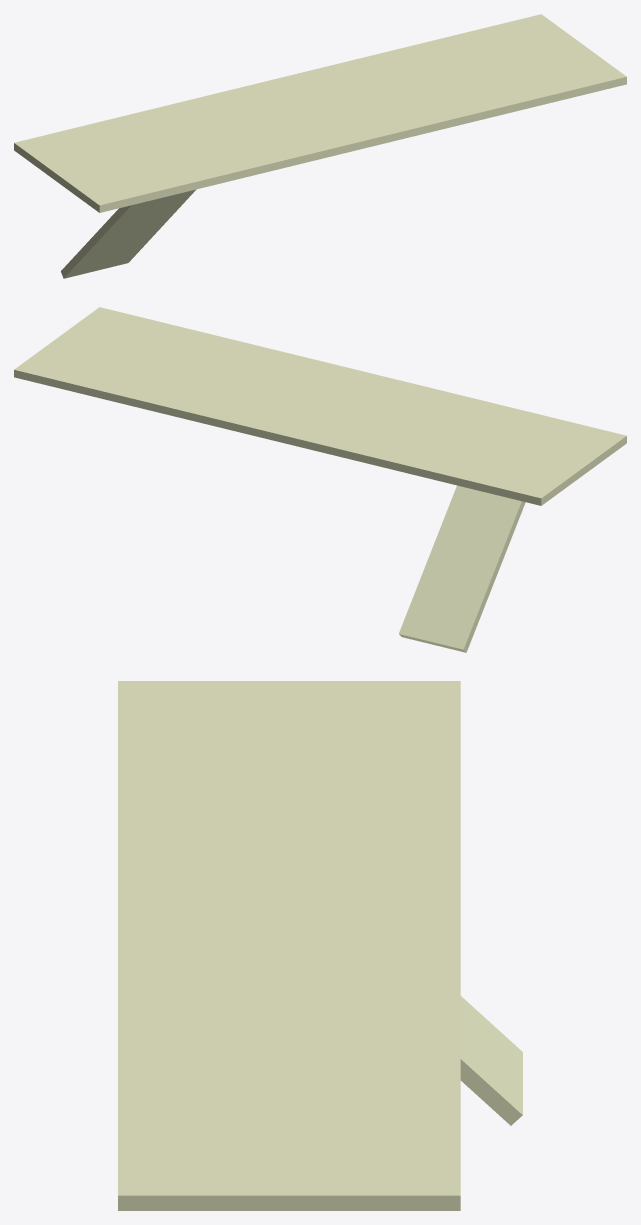
Rendered from etagere.fbx.
3 renders of one model, top to bottom at view 1: azimuth 30°, elevation 25°; view 2: azimuth 150°, elevation 25°; view 3: azimuth 270°, elevation 25°, orthographic. The views are drawn at different scales.
Parts seen in each view (by area): view 1: Etagère; view 2: Etagère; view 3: Etagère.
Boxes of the visible parts, x1=… form: Etagère: x1=14, y1=14, x2=626, y2=278; Etagère: x1=14, y1=307, x2=626, y2=652; Etagère: x1=118, y1=681, x2=522, y2=1210.
Size of the model in its own units: 711 by 207 by 236.
